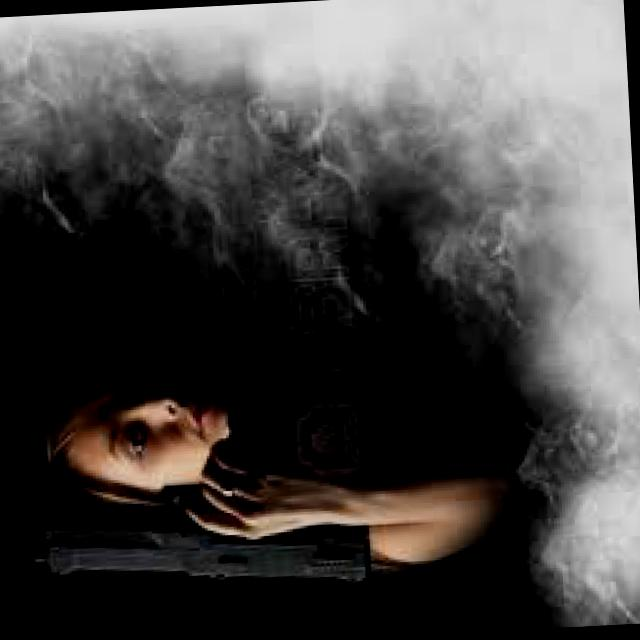handgun: (21, 480, 372, 609)
